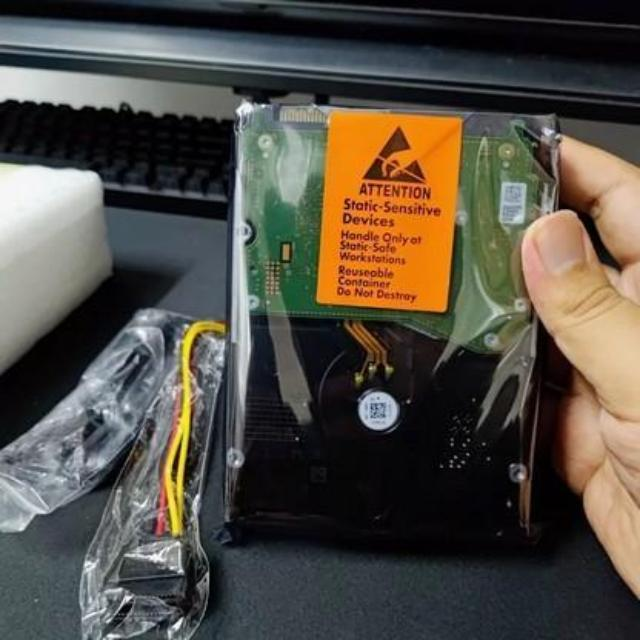DISK: (230, 91, 538, 560)
